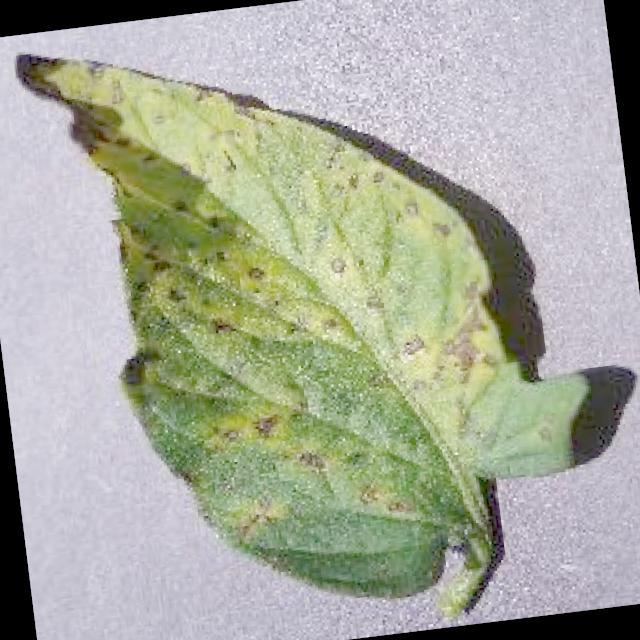Tomato Septoria spot leaf: (9, 0, 610, 629)
